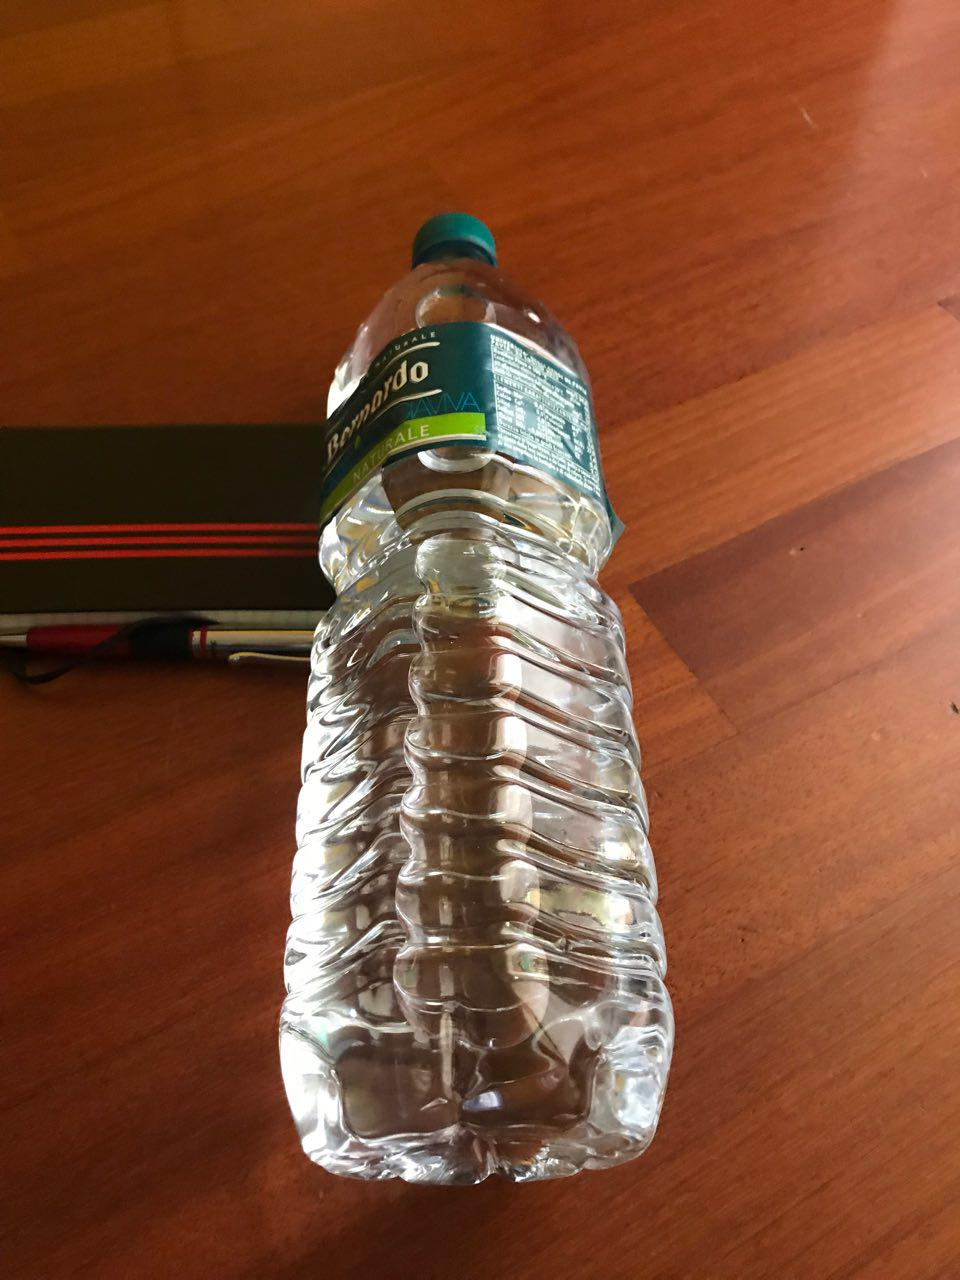san_bernardo: (273, 211, 677, 1192)
